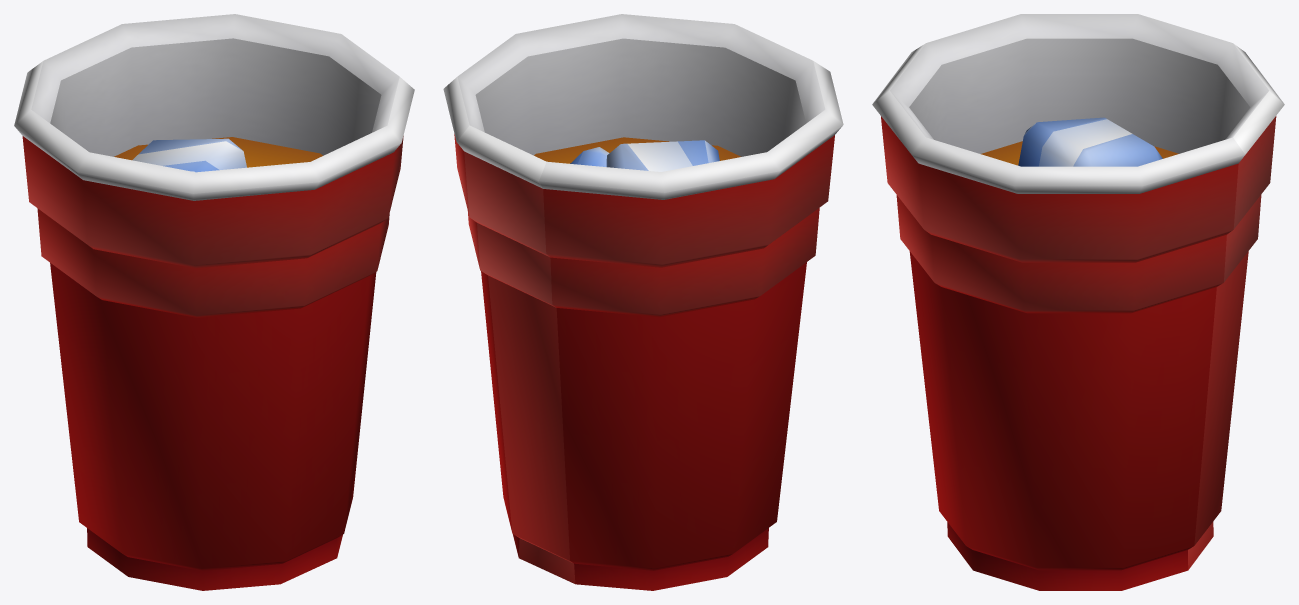
Rendered from m_RedSoloCup01.fbx.
3 views of the same model, side by side, from view 1: azimuth 30°, elevation 25°; view 2: azimuth 150°, elevation 25°; view 3: azimuth 270°, elevation 25° (orthographic).
Visible parts, largest first — view 1: m_RedSoloCup01; view 2: m_RedSoloCup01; view 3: m_RedSoloCup01.
Boxes of the visible parts, x1,y1,x2,y2 form: m_RedSoloCup01: [14, 14, 414, 590]; m_RedSoloCup01: [443, 14, 843, 590]; m_RedSoloCup01: [872, 14, 1284, 590].
Size of the model in its own units: 12.75 by 16 by 13.41.
